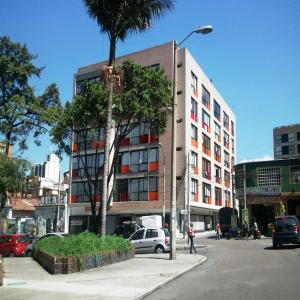Vehicle-registration-plate: (283, 229, 289, 233)
